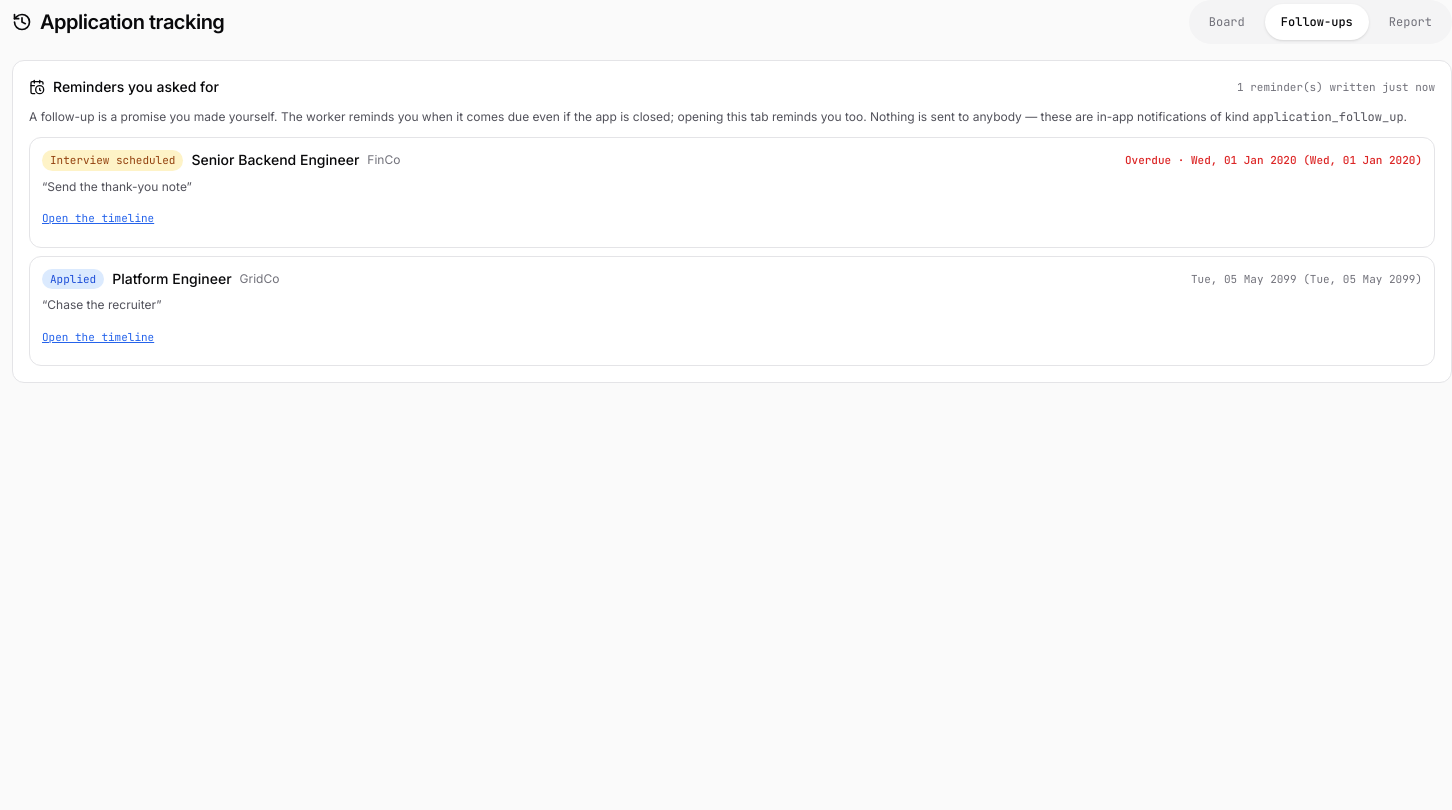
Scenario: Tracking board › shows the reminder agenda and the sweep that made it exist
This screenshot has width=1452, height=810.
Expected: the list item with test id "follow-up-4" is shown, [29,137,1435,248]
Expected: the text with test id "sweep" reads "1 reminder(s) written just now", [1237,80,1435,94]
# Opening a reminder takes the user to that record's timeline.
Click the button with test id "open-follow-up-6". click: [98, 337]
box: [42,321,154,353]
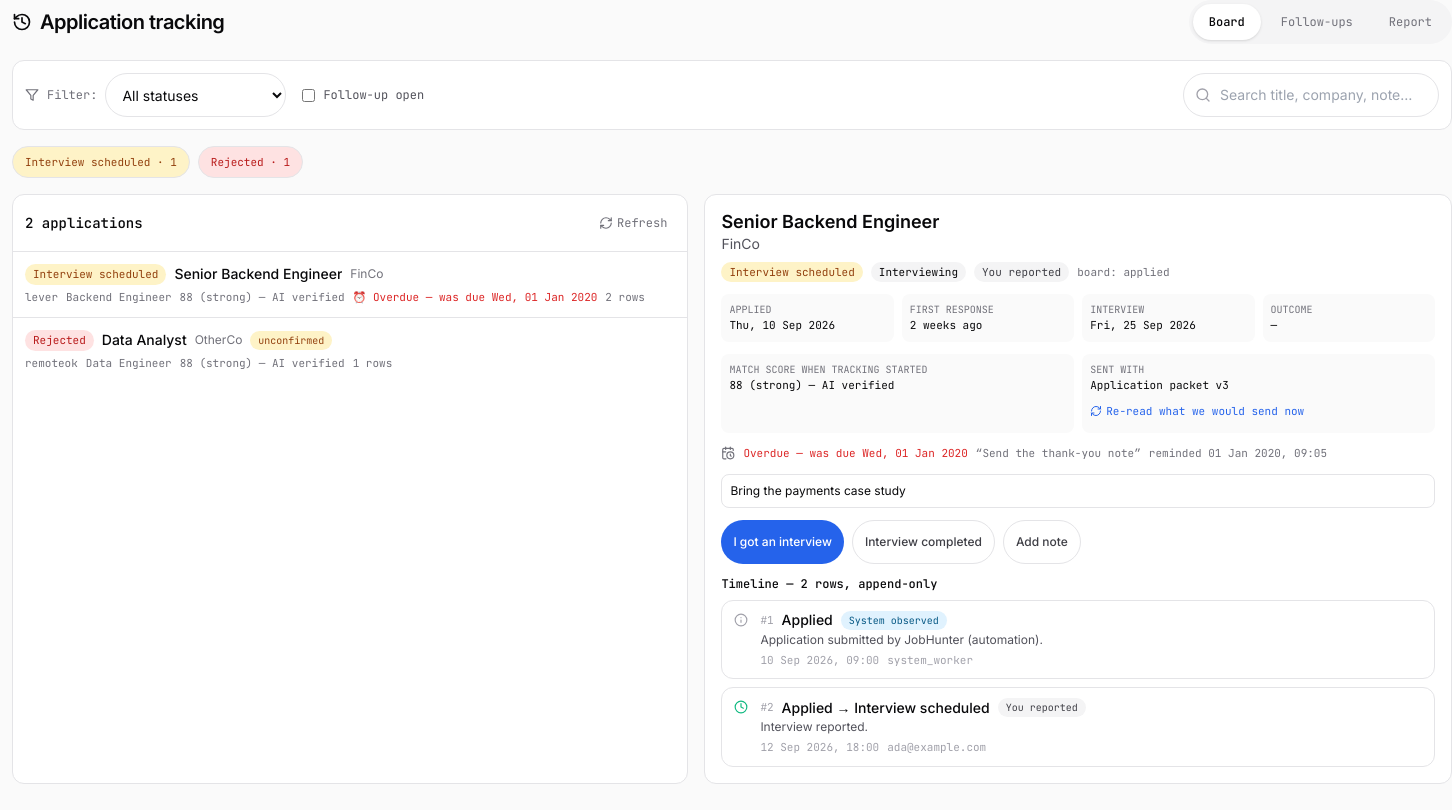
Now the text with test id "selected-state" is shown, box [721,262,863,282]
